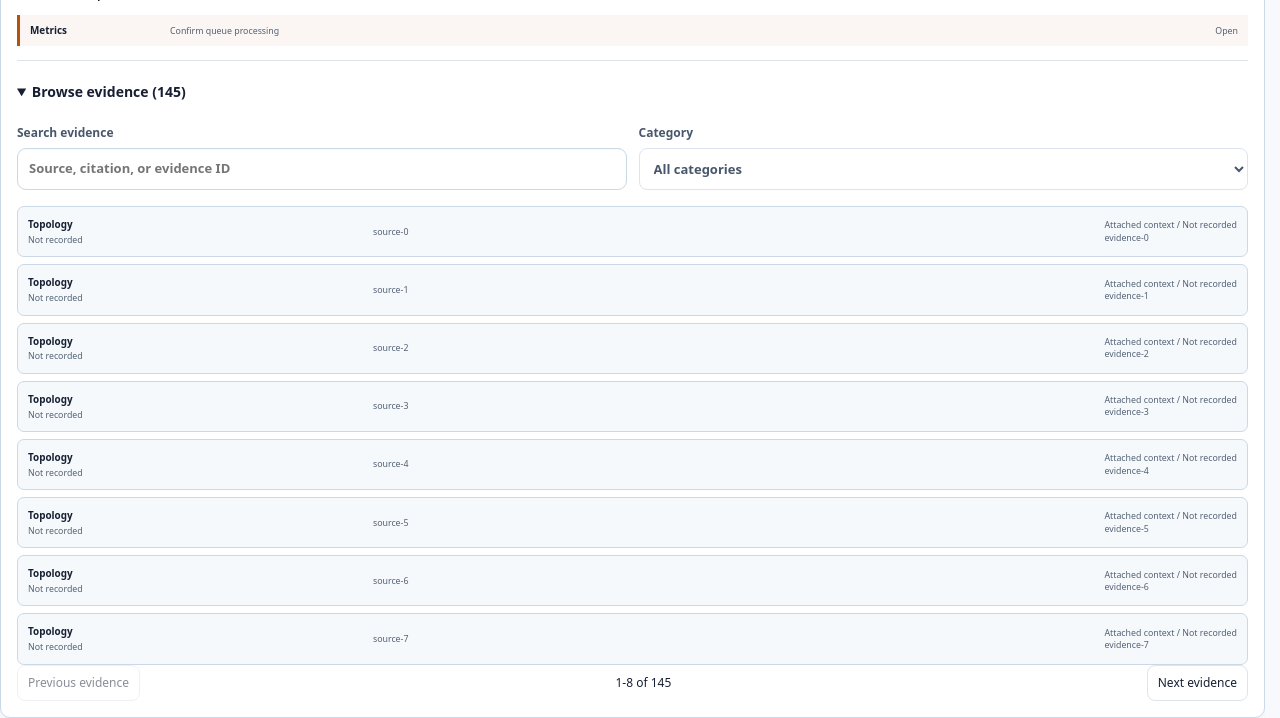
Test case: searches all records, resets pagination, and keeps requirements visible
The width and height of the screenshot is (1280, 718).
(page scrolled)
Expected: the text "Confirm queue processing" is shown, [170,25,279,37]
Click the button "Next evidence": [1197, 683] box [1147,665,1248,701]
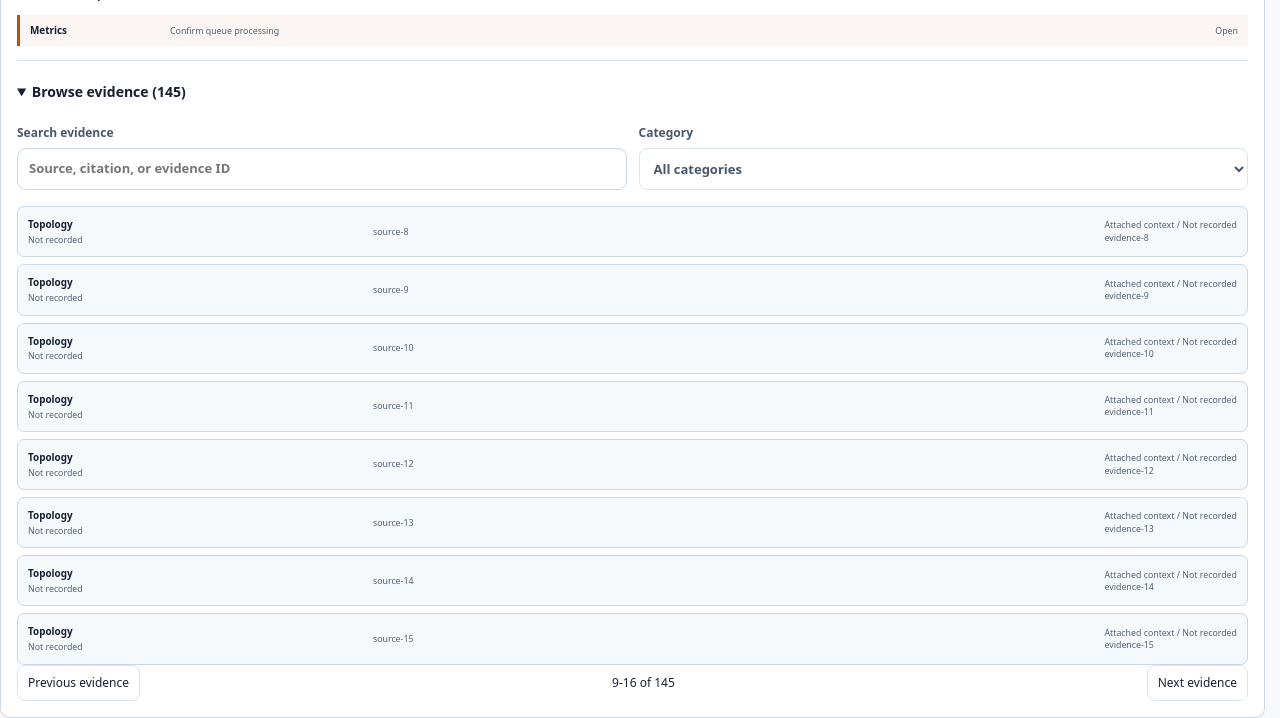
In the field labelled "Search evidence": [322, 169] box [17,148,626,190], type "source-144"
(page scrolled)
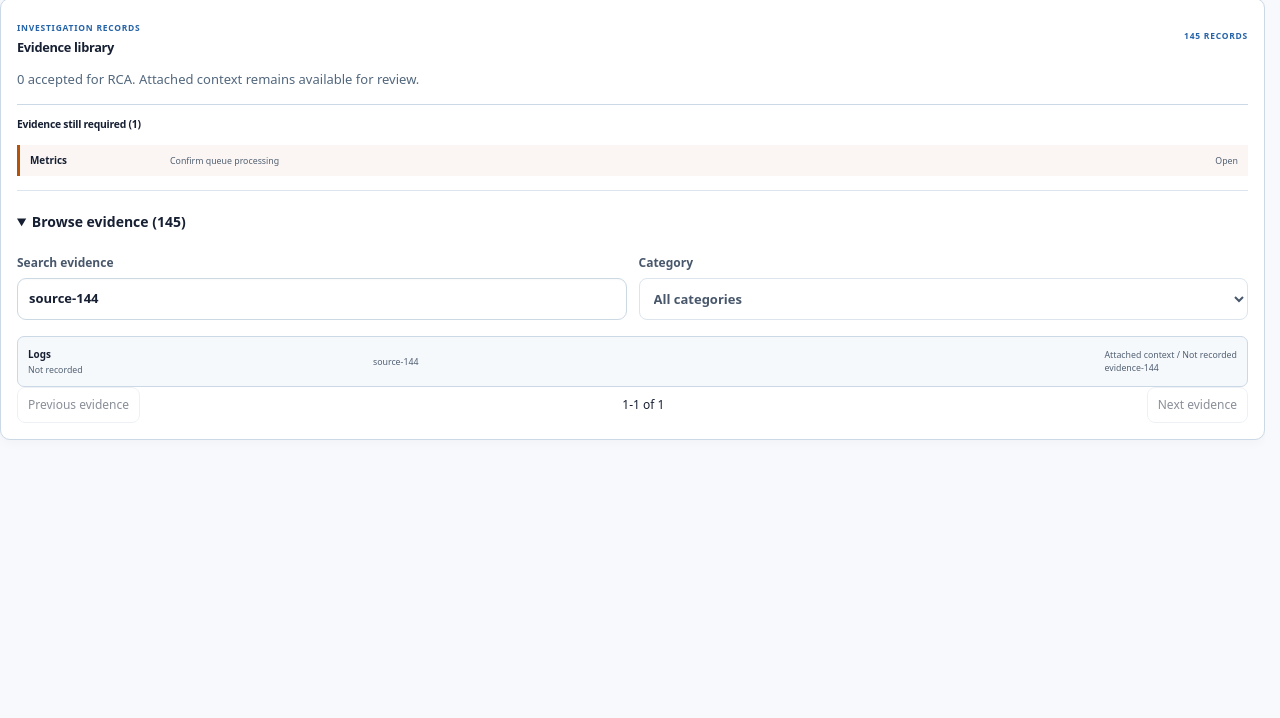
Expected: the text "source-144" is shown, [373,356,418,368]
Expected: the text "1-1 of 1" is shown, [622,396,664,414]
Select "topology" in the dropdown labelled "Category": [943, 299] box [638,278,1248,320]
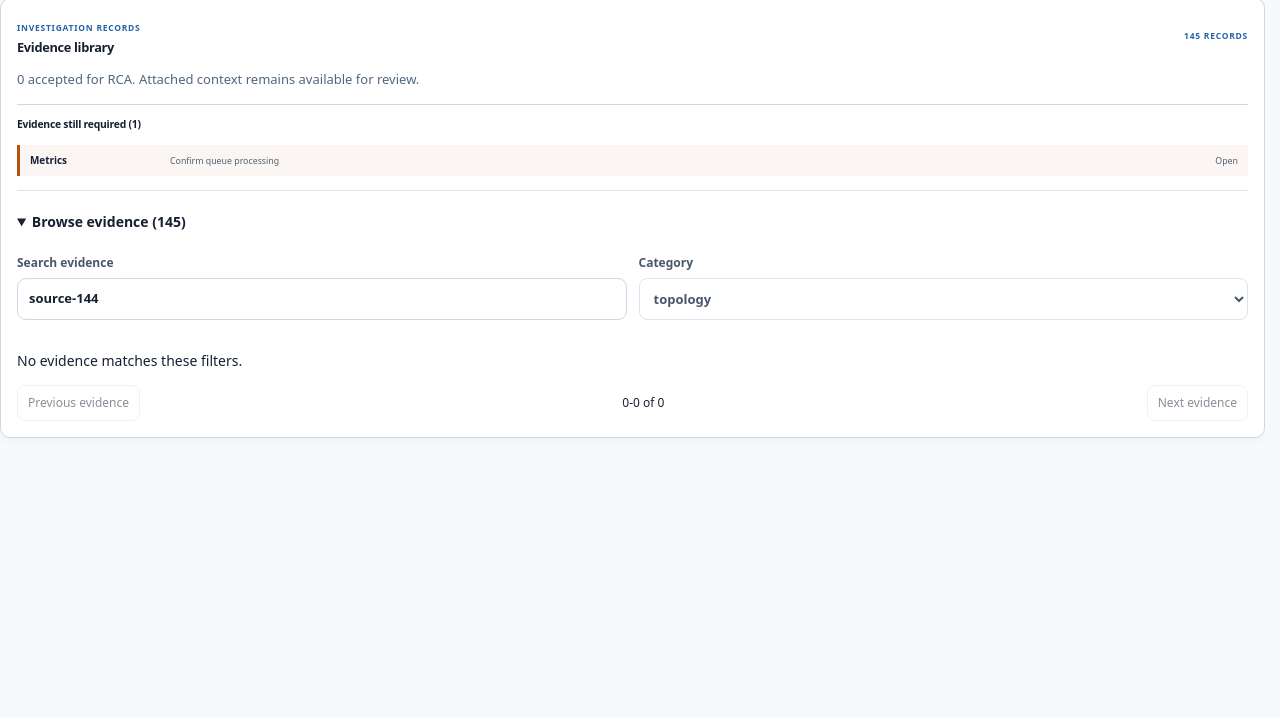
Expected: the text "No evidence matches these filters." is shown, [17,351,242,370]
